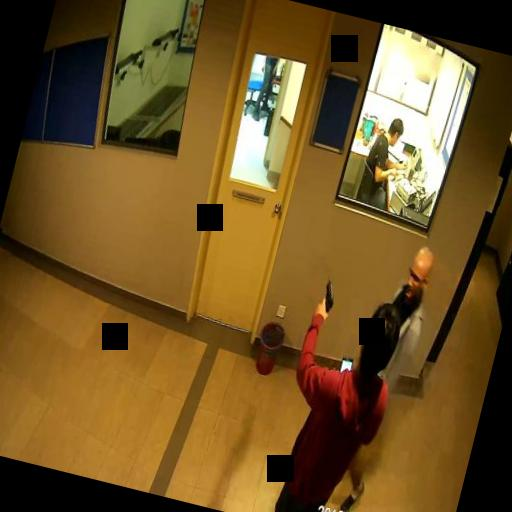Handgun: (316, 276, 338, 316)
